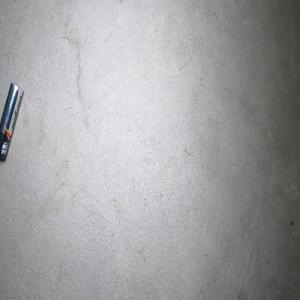Battery: (0, 81, 23, 160)
